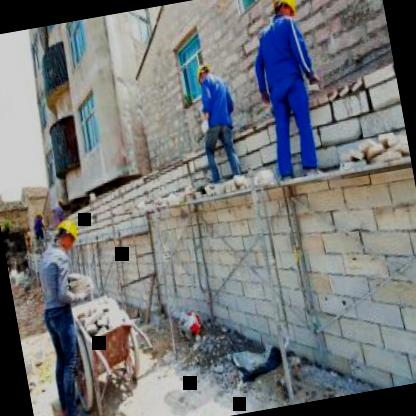helmet: (52, 212, 84, 253), (268, 0, 302, 25), (192, 59, 214, 88)
